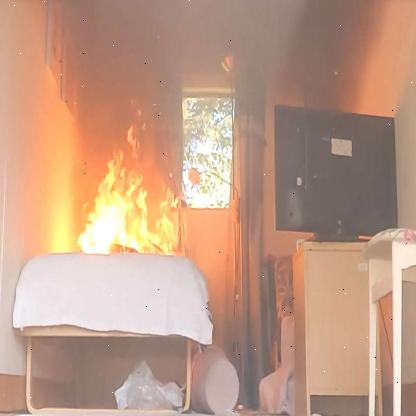fire: (70, 114, 196, 256)
